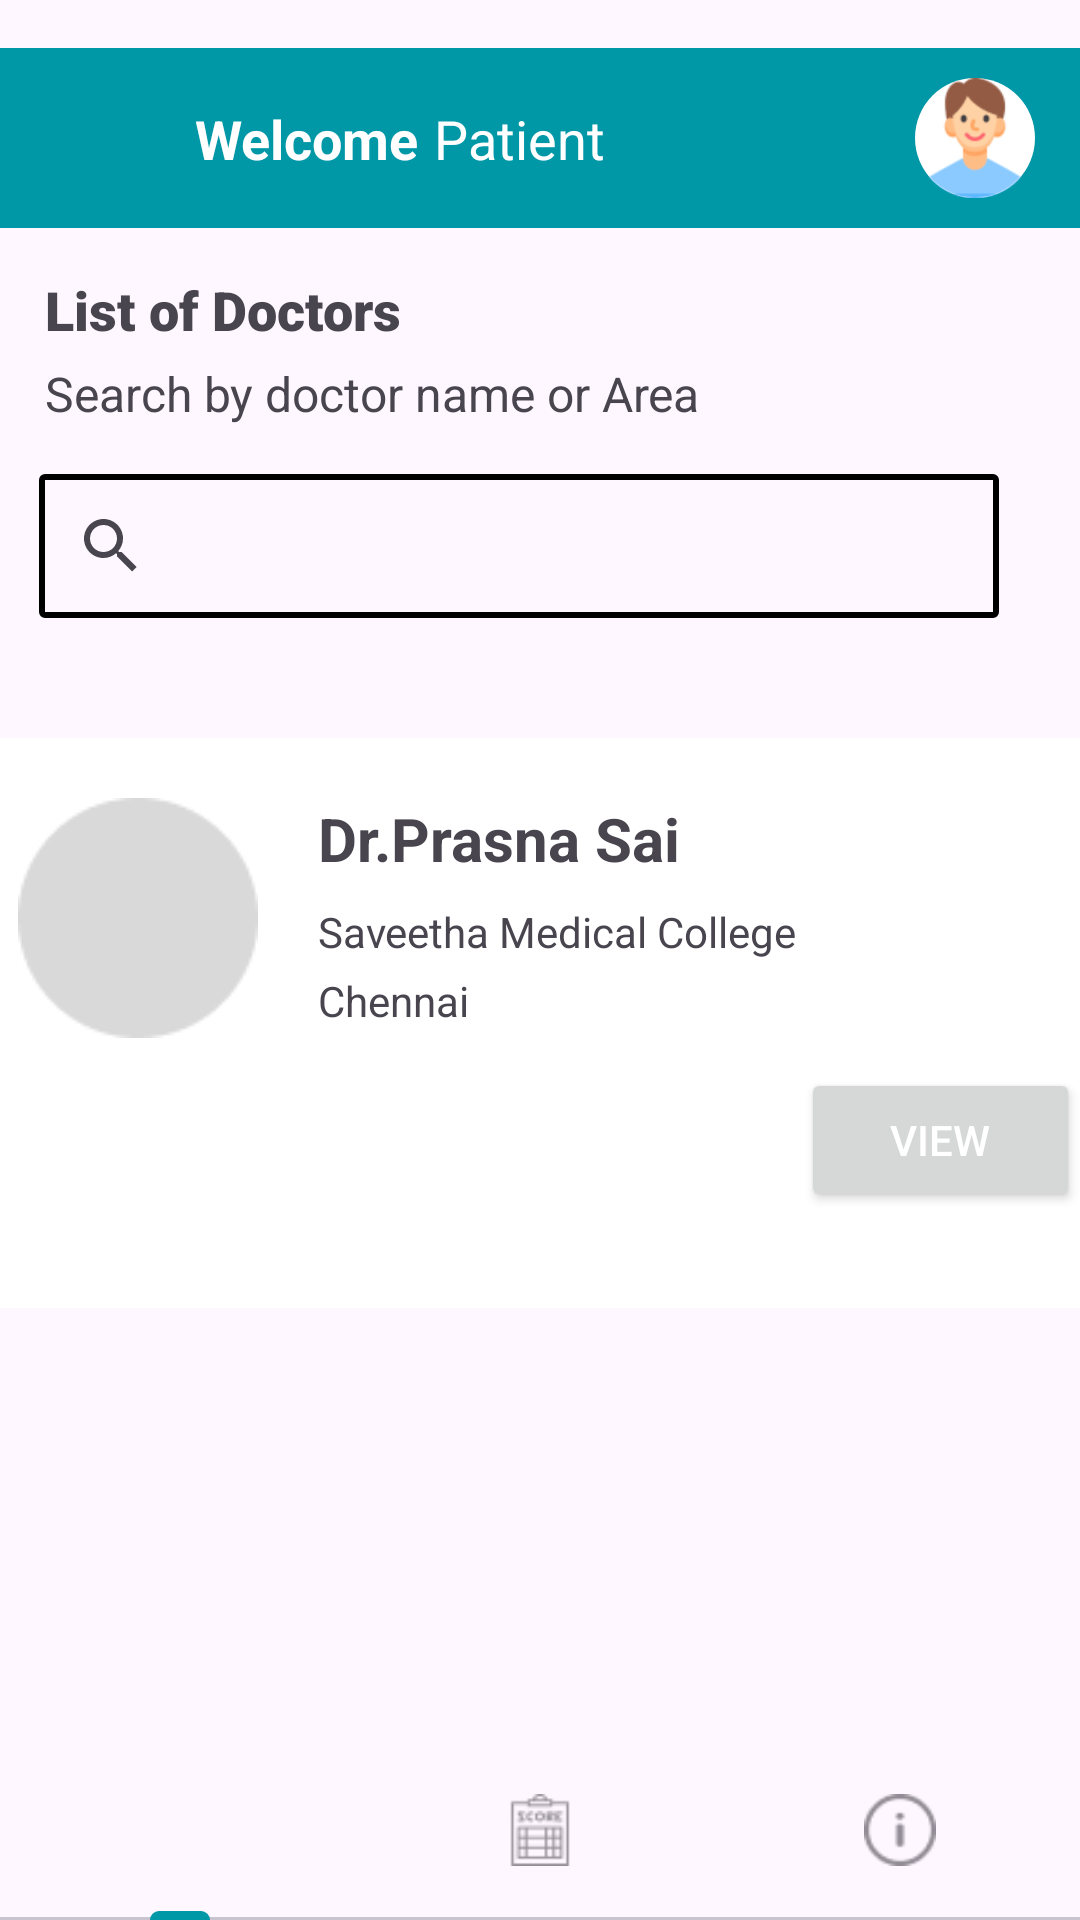

Named icons in this screenshot (1080w x 1920h) and their centers, point (x, y):
patient profile pic: point (975, 138)
